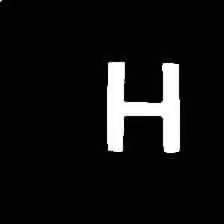LTR_H: (94, 49, 189, 162)
